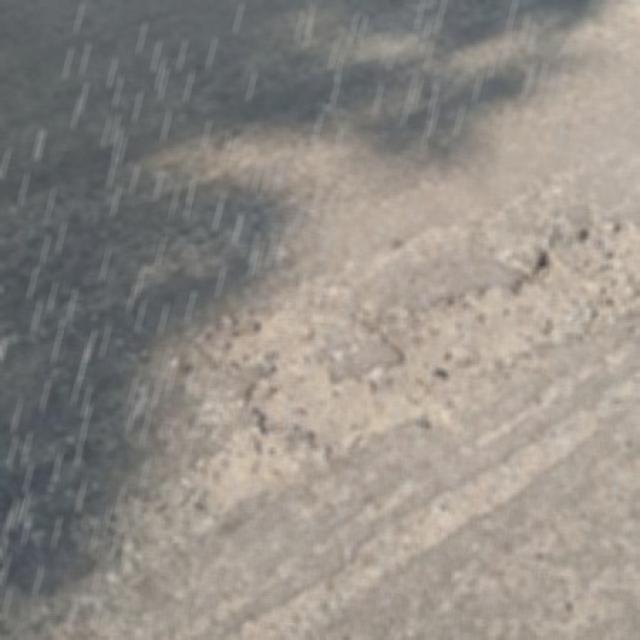road-pothole: (223, 200, 639, 496)
